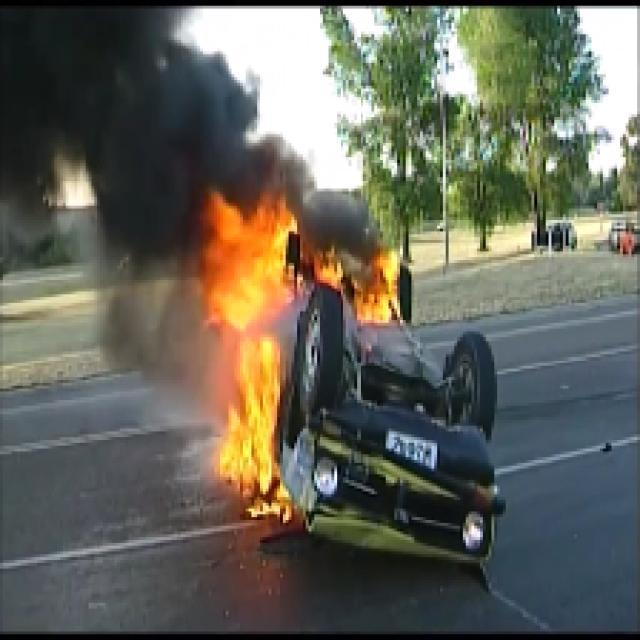Fire: (202, 191, 298, 523), (317, 251, 394, 323)
Smoke: (3, 2, 200, 288)
